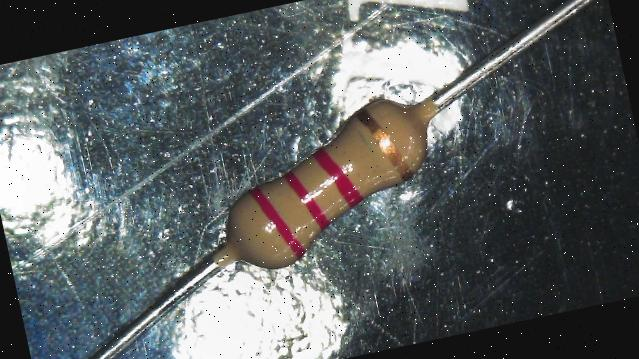gold: (355, 102, 409, 178)
red: (249, 179, 306, 267), (312, 141, 364, 212), (284, 167, 332, 230)
resistor: (187, 66, 457, 295)
